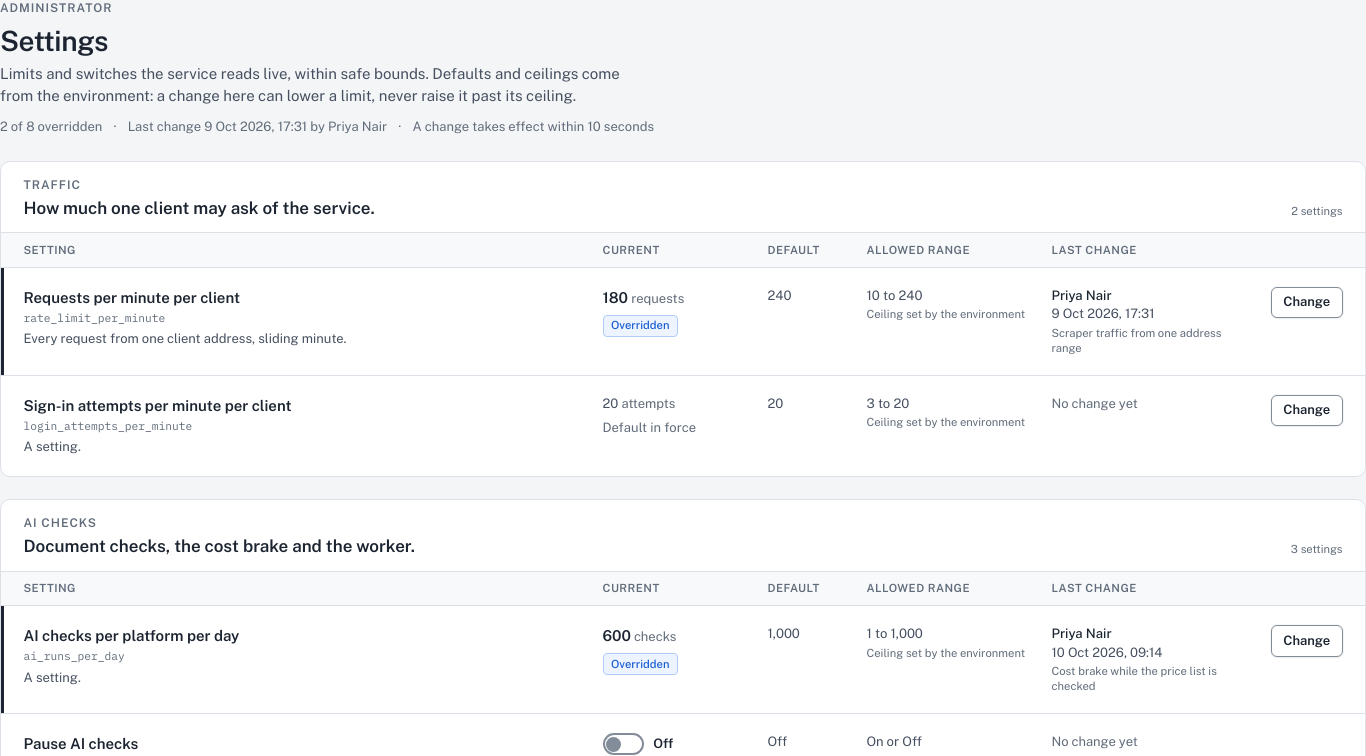
Test: admin settings page (US-101) › the change dialog › opens on the new value, shows now, default and allowed, and the old-to-new line
Click the button with aria-label "Change Requests per minute per client": coordinates (1307, 302) [1271,287,1342,318]
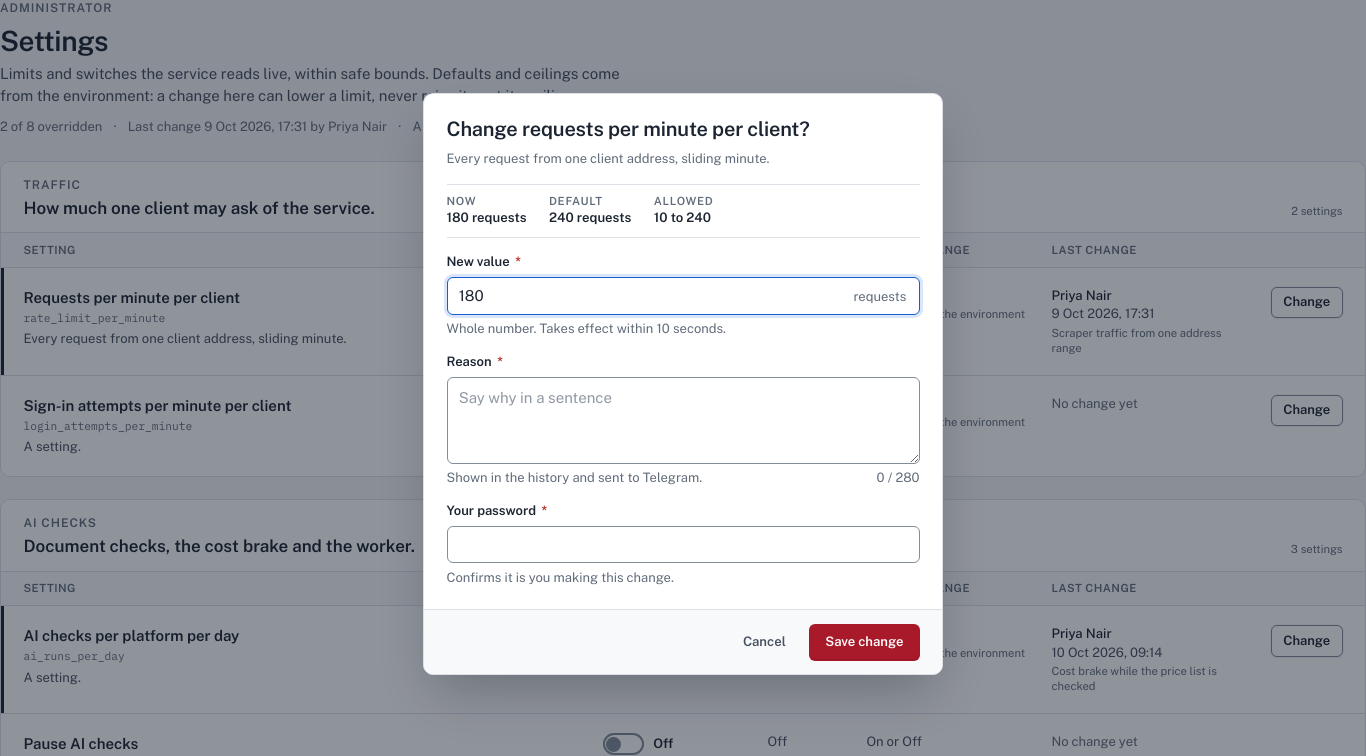
Expected: the text "180 requests" is shown, [446,209,526,228]
Expected: the text "240 requests" is shown, [549,209,631,228]
Expected: the text "10 to 240" is shown, [654,209,713,228]
Replace the text in the field labelled "New value *" with "200": coordinates (683, 296) [446,277,920,314]
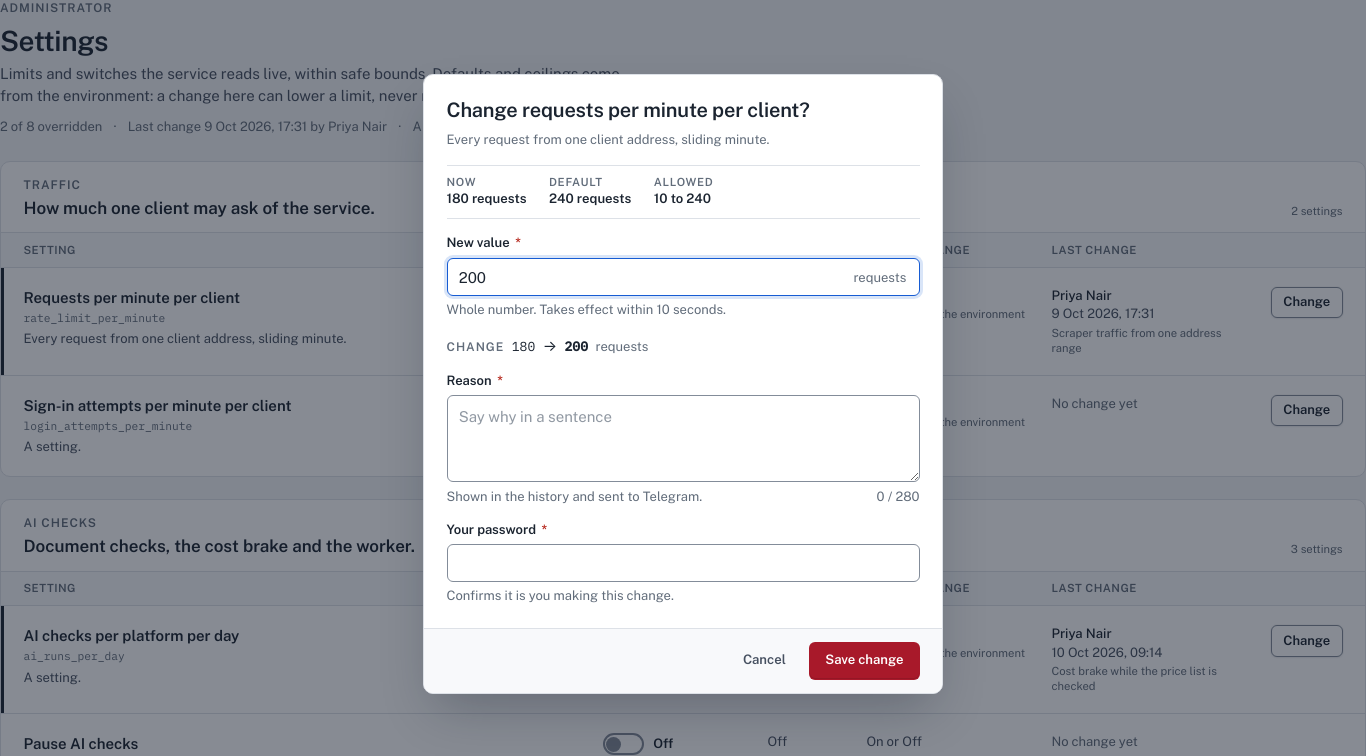
Expected: the text "0 / 280" is shown, [877,488,920,506]
In the text box labelled "Reason *": coordinates (683, 439) [446,395,920,482], type "Load test finished"
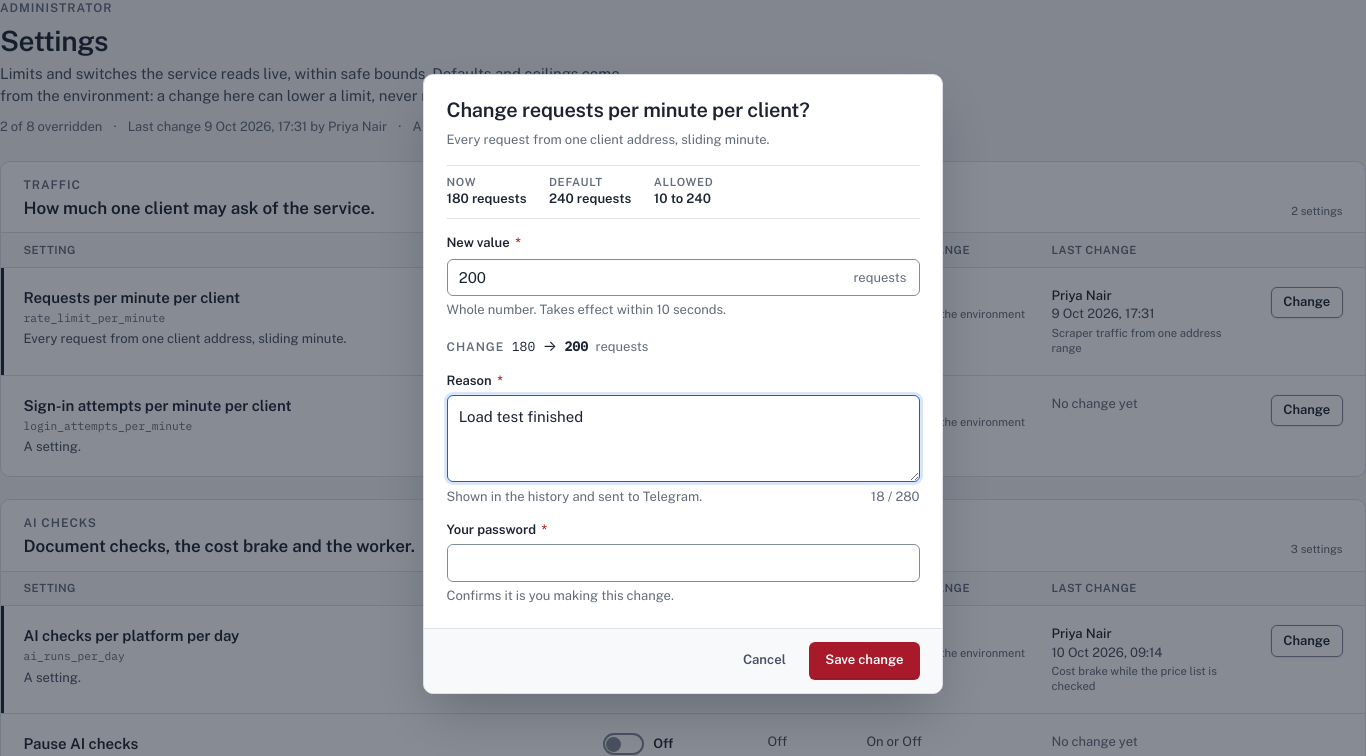
Expected: the text "18 / 280" is shown, [871,488,920,506]
